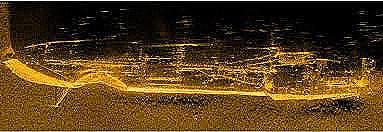ship: (1, 36, 377, 102)
